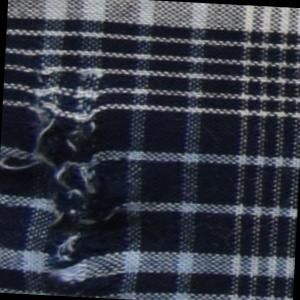Damage: (1, 59, 142, 300)
